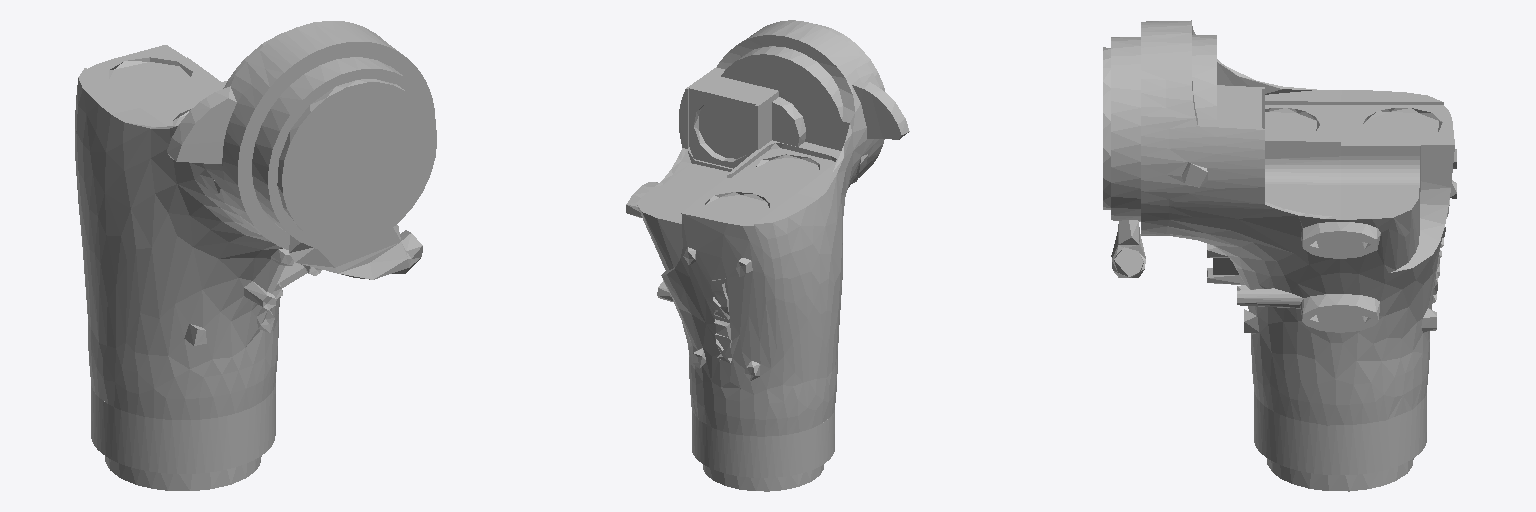
The robot description file, URDF, robot "root":
<?xml version='1.0' encoding='utf-8'?>
<robot name="root">
  <link name="link_001">
    <visual>
      <origin xyz="0 0 0" rpy="0 0 0" />
      <geometry>
        <mesh filename="39bd65843649ac4c3265ad689253ba26280070eb2f8de07a3c4ad9868751c408_scale_016.stl" scale="1.0000E+00 1.0000E+00 1.0000E+00" />
      </geometry>
      <material name="">
        <color rgba="7.50E-01 7.50E-01 7.50E-01 1" />
      </material>
    </visual>
    <collision>
      <origin xyz="0 0 0" rpy="0 0 0" />
      <geometry>
        <mesh filename="39bd65843649ac4c3265ad689253ba26280070eb2f8de07a3c4ad9868751c408_scale_016.stl" scale="1.0000E+00 1.0000E+00 1.0000E+00" />
      </geometry>
    </collision>
  </link>
</robot>

--- Render facts (derived) ---
3 views of the same robot in one strip: view 1: azimuth 30°, elevation 25°; view 2: azimuth 150°, elevation 25°; view 3: azimuth 270°, elevation 25° (orthographic).
Robot: root — 1 links, 0 joints (none); root link link_001; default pose: all joints at 0.
Visible links, largest first — view 1: link_001; view 2: link_001; view 3: link_001.
Link boxes in pixels (x1=…): link_001: x1=75, y1=21, x2=436, y2=490; link_001: x1=626, y1=20, x2=909, y2=491; link_001: x1=1103, y1=20, x2=1456, y2=491.
Bounding box of the posed robot: 0.0601 × 0.0774 × 0.1088 m (x, y, z).
Meshes: 1 distinct files referenced, 1 mesh visuals loaded (1 binary STL).
